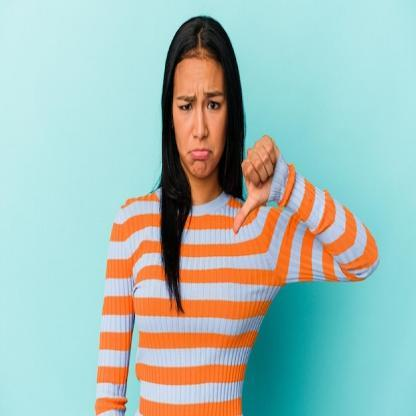thumb_down: (230, 132, 282, 236)
